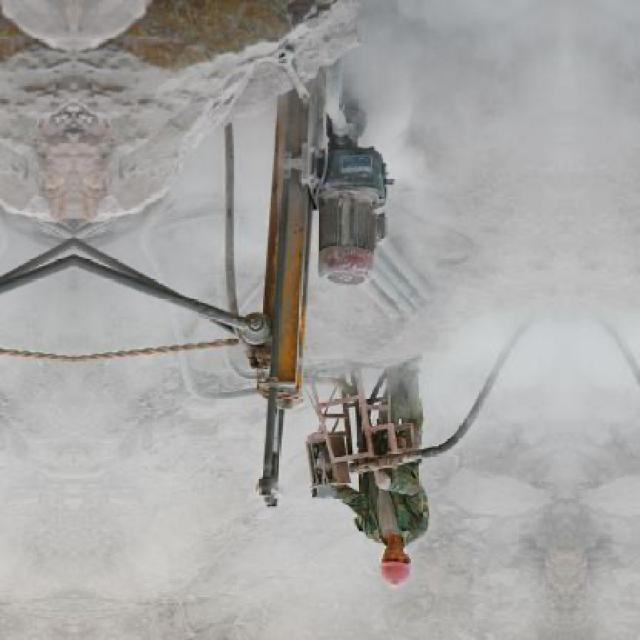con casco: (334, 488, 454, 593)
